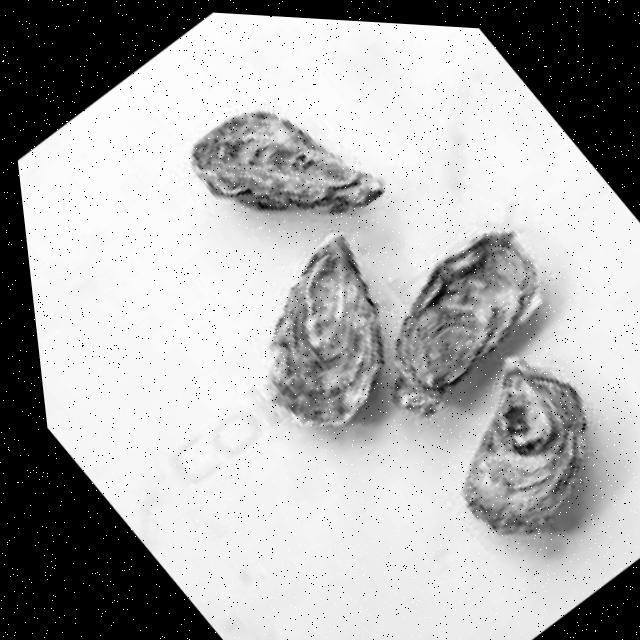Oyster-Closed: (192, 110, 384, 212)
Oyster-Indeterminate: (393, 231, 541, 415), (463, 354, 587, 534), (267, 233, 382, 426)
